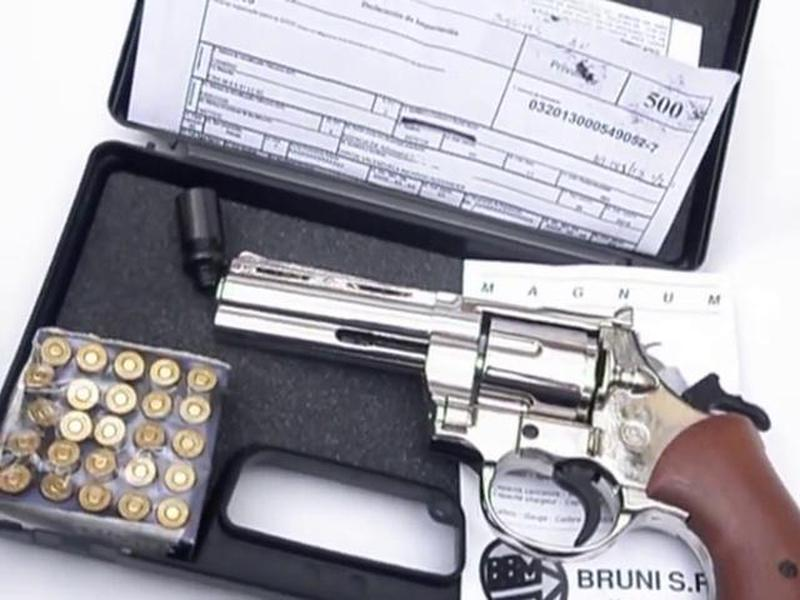Revolver: (212, 228, 773, 565)
